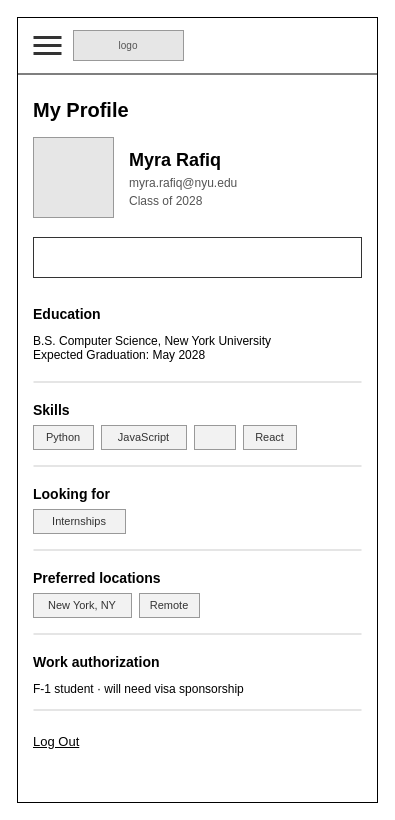
This 395x820 diagram has some shape labels left out. The centre of each missing label's shape, as x and y in pixels:
"Edit Profile" belongs at pixel 197 257.
"SQL" belongs at pixel 215 437.
"user photo" belongs at pixel 73 177.
